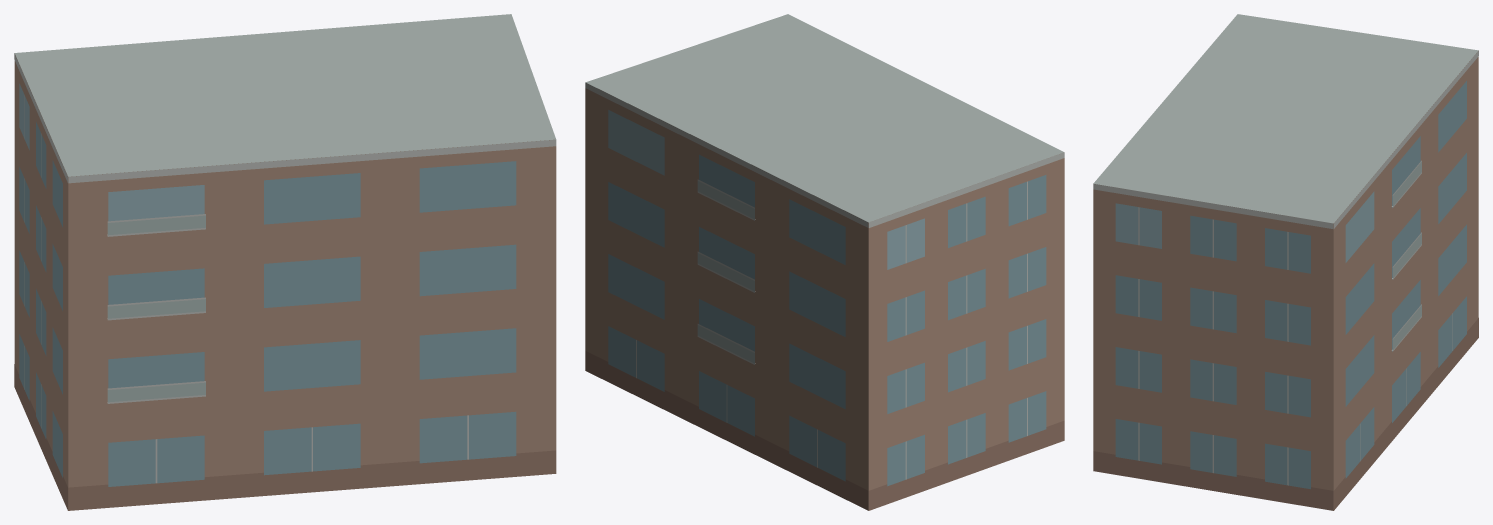
Rendered from survey-upis-32891035.glb.
3 views of the same model, side by side, from view 1: azimuth 30°, elevation 25°; view 2: azimuth 150°, elevation 25°; view 3: azimuth 270°, elevation 25° (orthographic). The views are drawn at different scales.
Parts seen in each view (by area): view 1: survey-upis-32891035.tmp; view 2: survey-upis-32891035.tmp; view 3: survey-upis-32891035.tmp.
Boxes of the visible parts, bbox=[...] form: survey-upis-32891035.tmp: bbox=[14, 14, 556, 510]; survey-upis-32891035.tmp: bbox=[585, 14, 1064, 510]; survey-upis-32891035.tmp: bbox=[1093, 14, 1478, 510].
Size of the model in its own units: 19.08 by 12.2 by 14.84.
